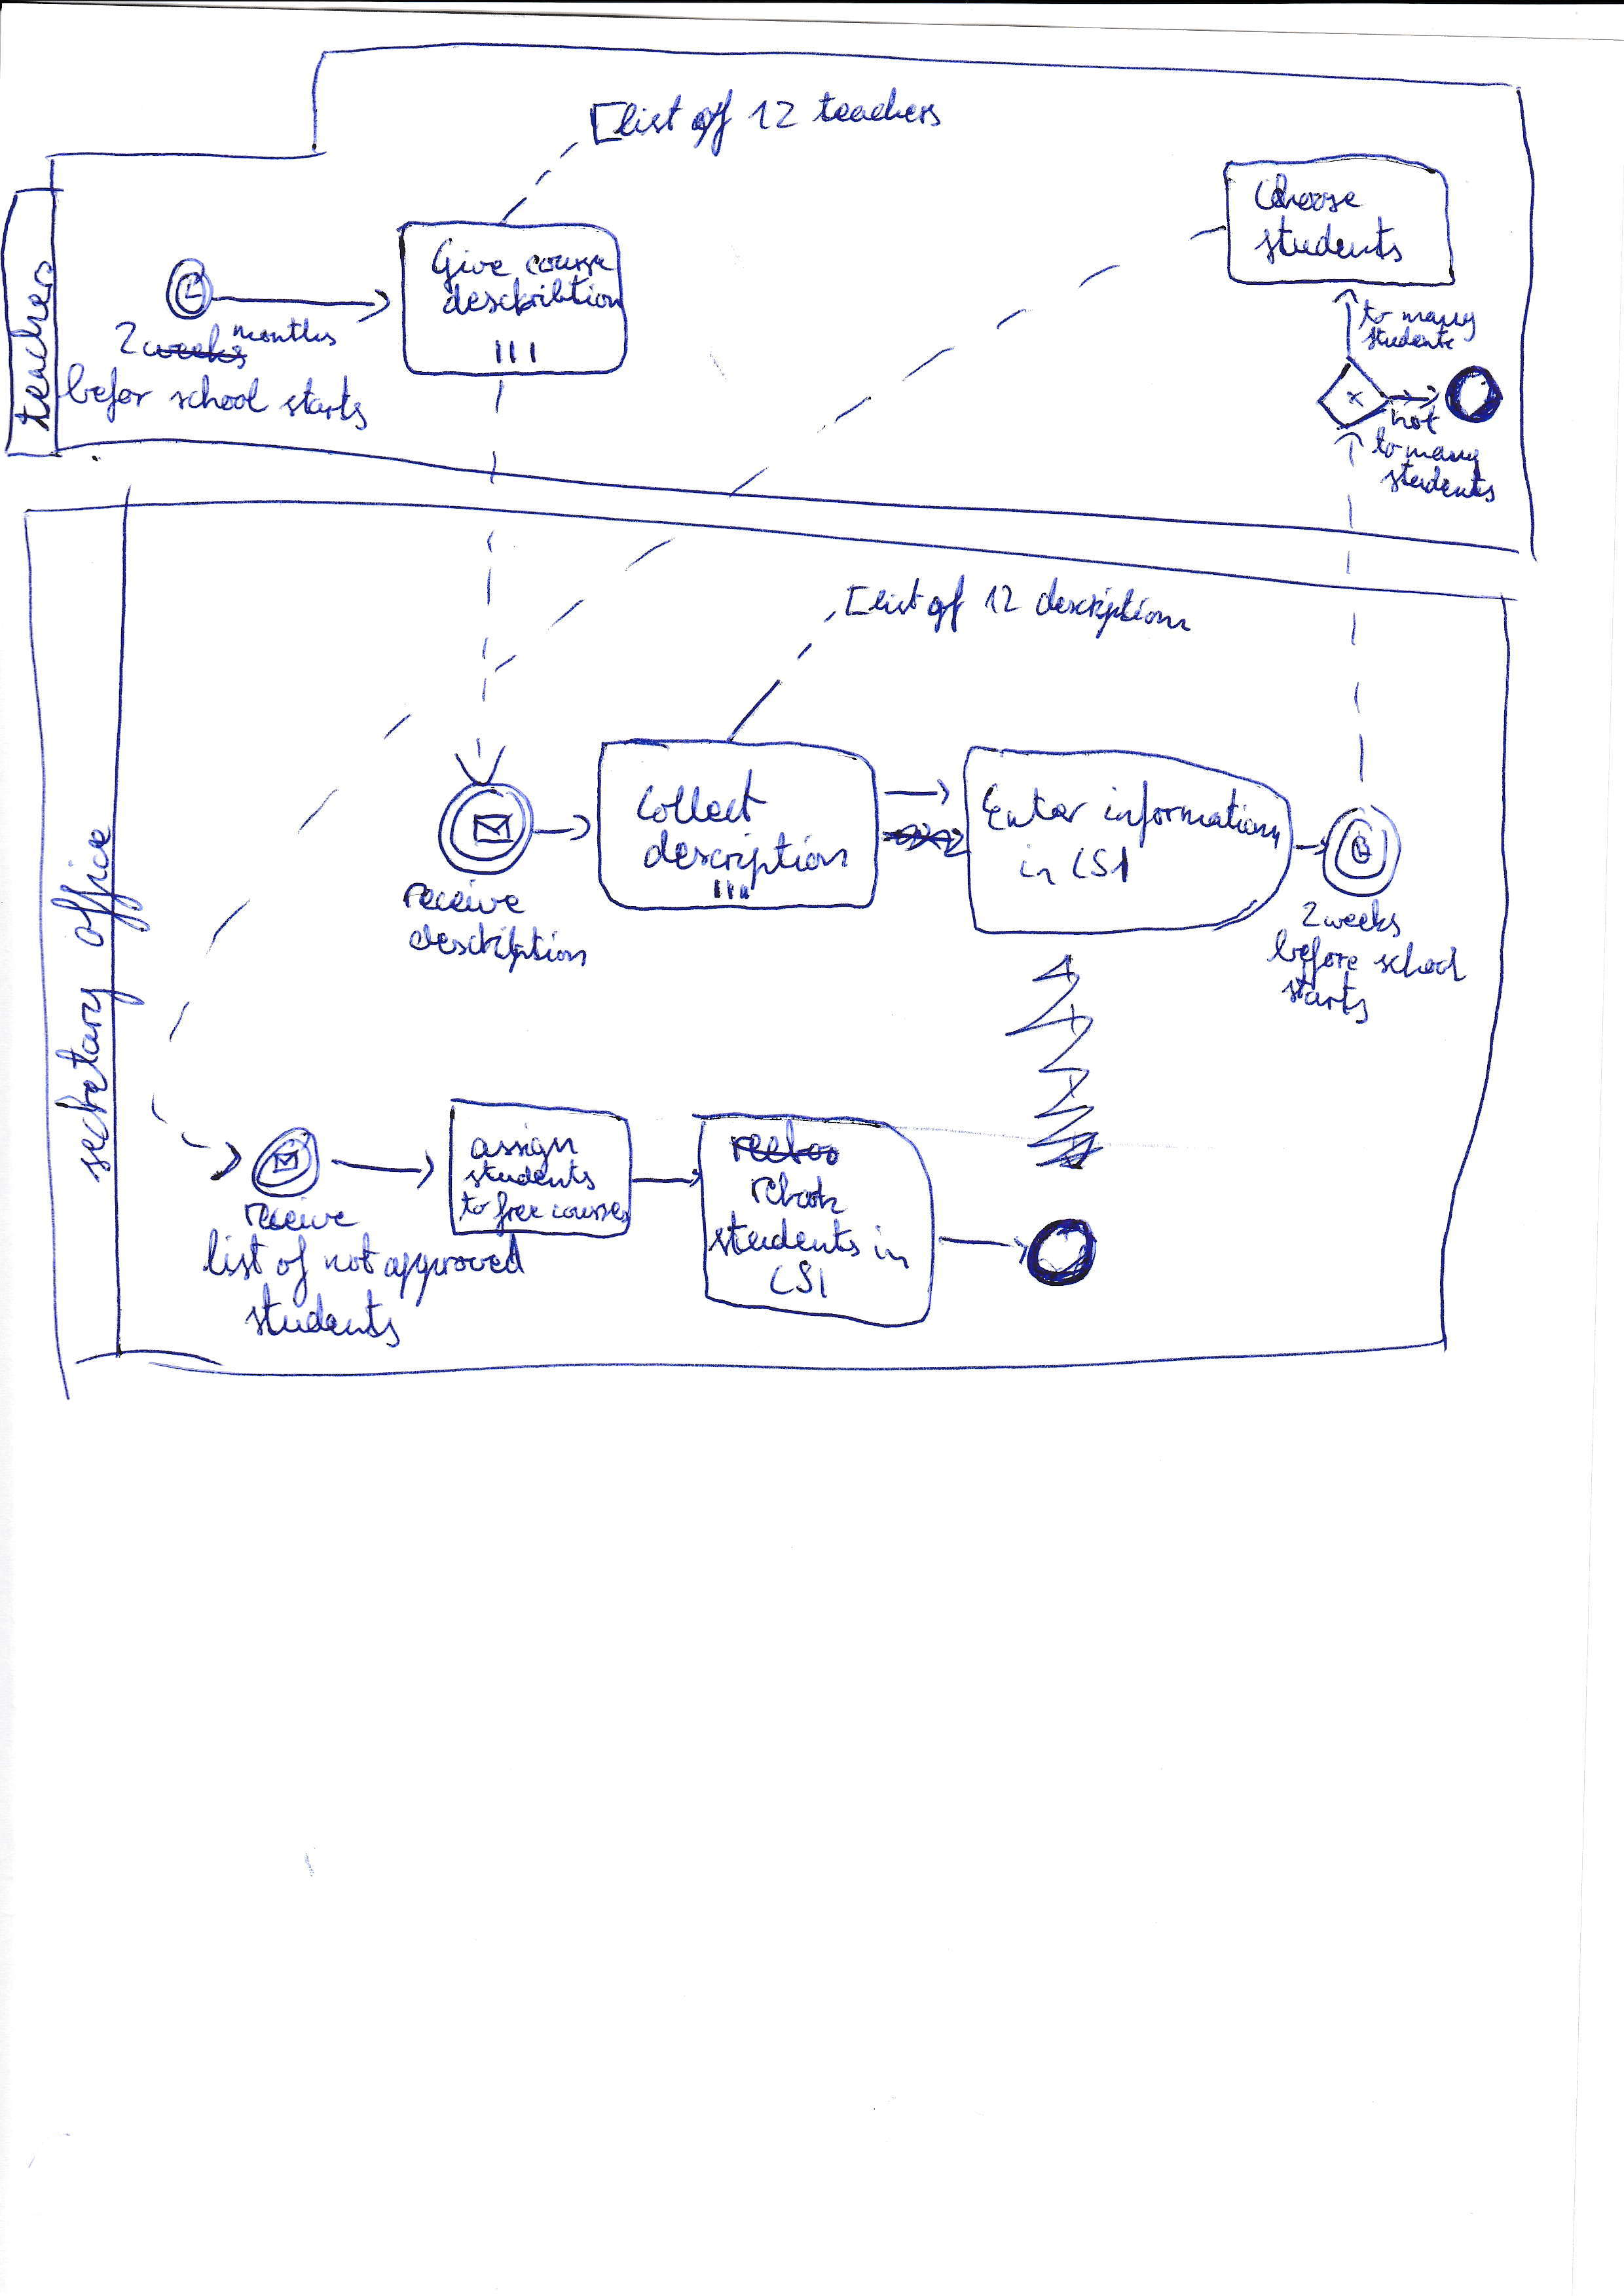12: (748, 95, 802, 134), (984, 583, 1025, 618)
2: (111, 318, 137, 355), (1301, 900, 1320, 928)
CSI: (1063, 844, 1136, 887), (770, 1259, 828, 1300)
Collect: (638, 772, 769, 823)
Enter: (979, 778, 1087, 831)
Give: (430, 236, 509, 290)
approved: (382, 1234, 527, 1303)
assign: (468, 1125, 578, 1167)
befor: (60, 364, 155, 421)
before: (1268, 926, 1362, 977)
choose: (1253, 175, 1367, 216)
course: (525, 251, 612, 281)
courses: (551, 1199, 631, 1224)
description: (640, 826, 855, 885), (409, 913, 596, 964), (1039, 572, 1196, 630)
free: (491, 1192, 543, 1233)
in: (1013, 844, 1060, 887), (872, 1224, 910, 1270)
informations: (1099, 780, 1286, 850)
list: (582, 105, 682, 146), (203, 1229, 267, 1280), (867, 577, 925, 623)
many: (1401, 302, 1479, 340)
meany: (1408, 437, 1478, 465)
months: (231, 316, 338, 348)
not: (322, 1233, 379, 1284), (1390, 405, 1441, 435)
of: (692, 88, 737, 156), (275, 1235, 313, 1306), (923, 576, 971, 632)
office: (50, 826, 151, 947)
rebook: (748, 1167, 852, 1217)
receive: (404, 876, 526, 916), (240, 1193, 359, 1231)
school: (1370, 941, 1469, 984), (168, 374, 272, 413)
secretary: (54, 985, 143, 1184)
starts: (1278, 967, 1376, 1029), (276, 374, 375, 434)
students: (246, 1285, 401, 1347), (1255, 216, 1405, 265), (709, 1212, 860, 1257), (1386, 456, 1502, 494), (464, 1160, 596, 1190), (1363, 325, 1458, 354)
teachers: (12, 257, 54, 431), (812, 88, 945, 130)
to: (458, 1191, 492, 1223), (1367, 428, 1402, 460), (1359, 301, 1393, 328)
weeks: (1323, 897, 1406, 934)
